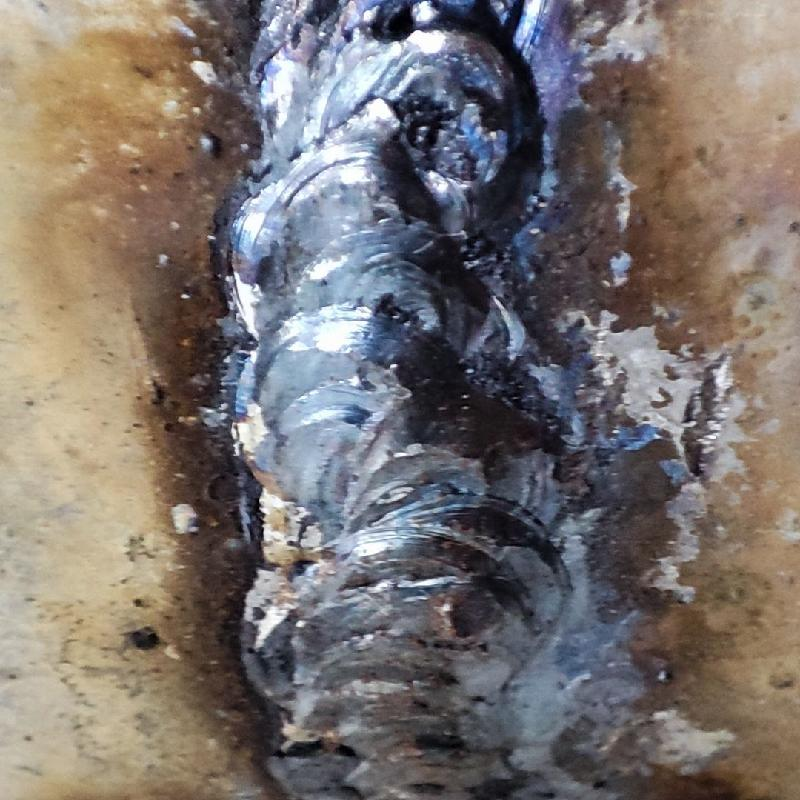Surface_pores: (393, 88, 458, 155)
